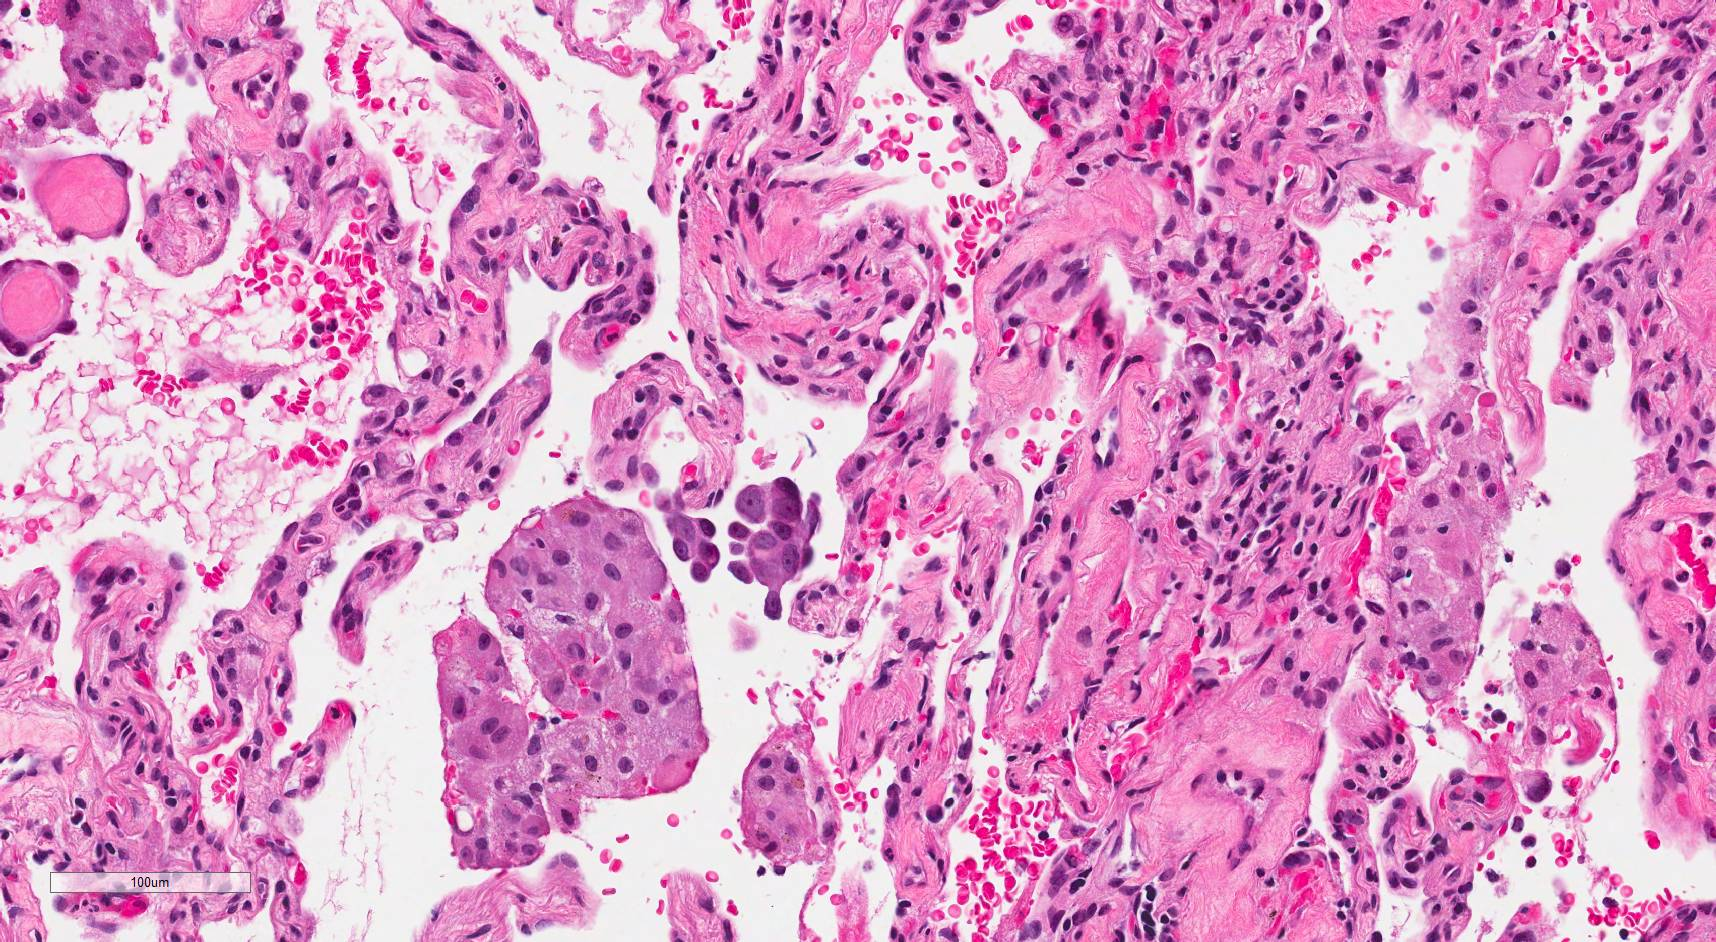stas: (725, 478, 819, 624), (658, 496, 728, 588)
